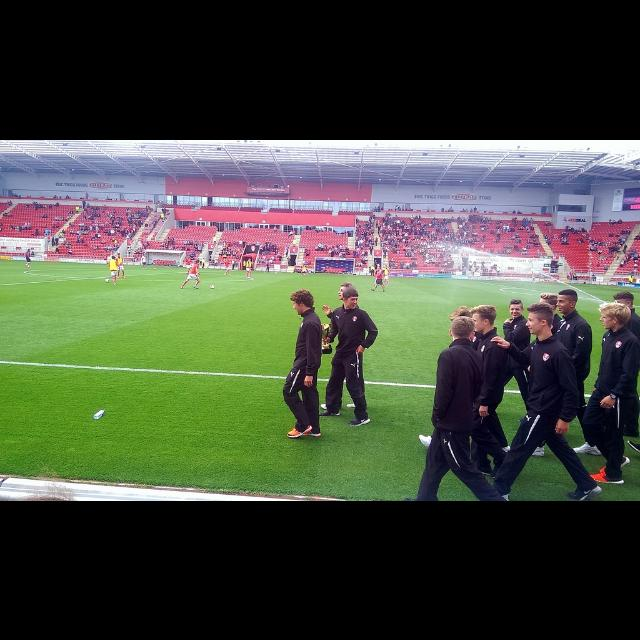Football: (210, 283, 212, 287)
